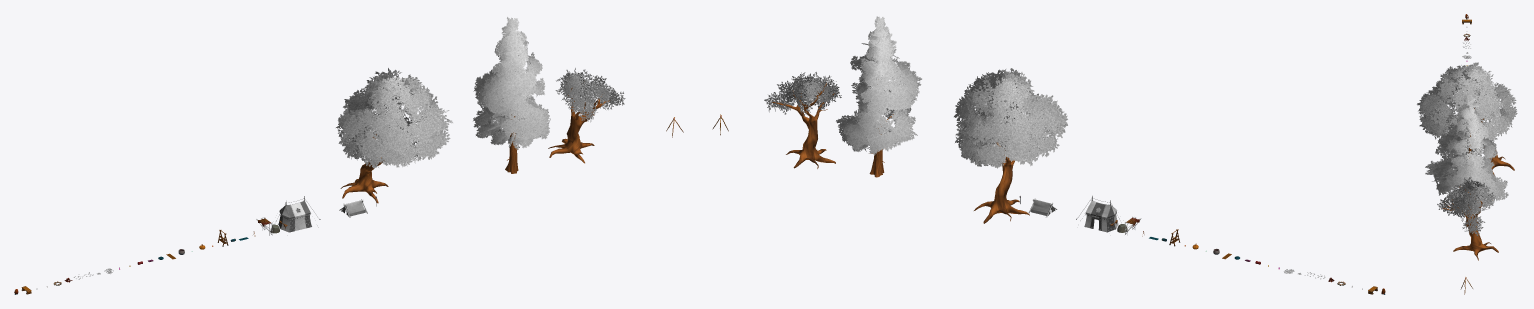
File: campsite-kit-full.glb
3 views of the same model, side by side, from view 1: azimuth 30°, elevation 25°; view 2: azimuth 150°, elevation 25°; view 3: azimuth 270°, elevation 25° (orthographic). The views are drawn at different scales.
Visible parts, largest first — view 1: TreeA, TreeB, TreeC, Tent; view 2: TreeA, TreeB, TreeC, Tent; view 3: TreeA, TreeB, TreeC.
Boxes of the visible parts, x1=… form: TreeA: x1=336, y1=68, x2=452, y2=203; TreeB: x1=473, y1=17, x2=550, y2=173; TreeC: x1=548, y1=68, x2=625, y2=163; Tent: x1=270, y1=196, x2=320, y2=232; TreeA: x1=954, y1=68, x2=1067, y2=223; TreeB: x1=836, y1=16, x2=921, y2=177; TreeC: x1=764, y1=72, x2=841, y2=168; Tent: x1=1076, y1=195, x2=1126, y2=232; TreeA: x1=1417, y1=62, x2=1517, y2=175; TreeB: x1=1425, y1=92, x2=1508, y2=226; TreeC: x1=1437, y1=177, x2=1498, y2=260.
Size of the model in its own units: 129 by 28.86 by 20.78.
Materials: 37 (36 with a texture image).
